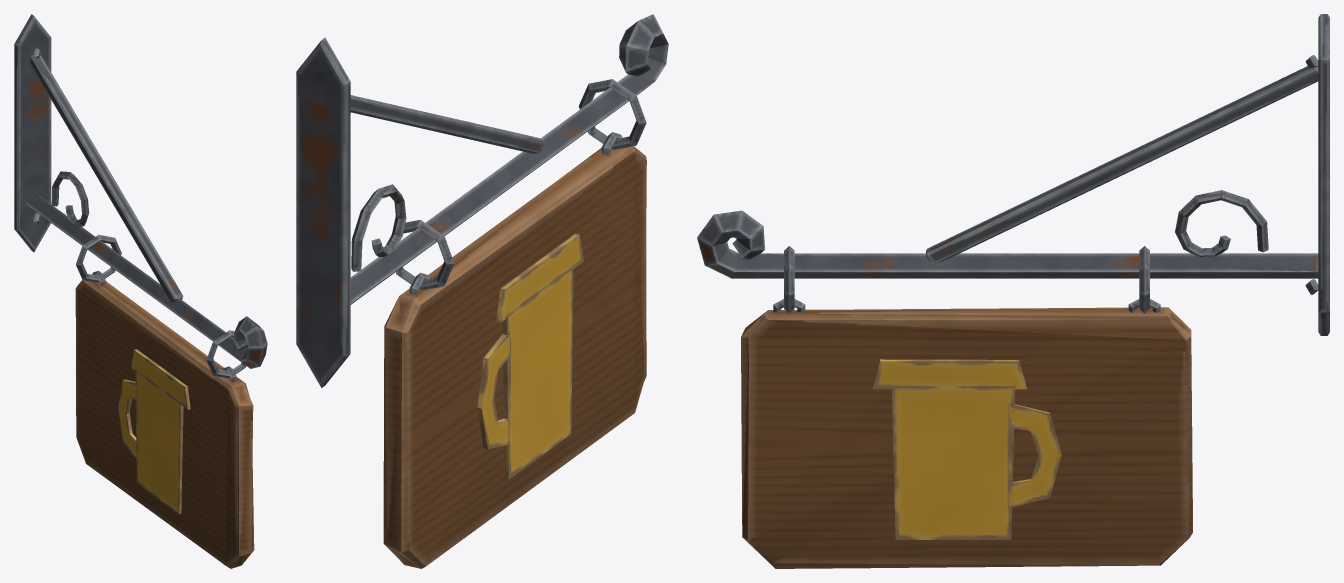
The model's file is tavern_sign.glb.
The picture shows the model from 3 angles, left to right: view 1: azimuth 30°, elevation 25°; view 2: azimuth 150°, elevation 25°; view 3: azimuth 270°, elevation 25°; orthographic projection. The views are drawn at different scales.
Parts seen in each view (by area): view 1: sign_board, tavern_sign_static; view 2: sign_board, tavern_sign_static; view 3: sign_board, tavern_sign_static.
Boxes of the visible parts, x1,y1,x2,y2 form: sign_board: (75,234,254,568); tavern_sign_static: (14,14,267,368); sign_board: (383,79,646,568); tavern_sign_static: (296,14,668,387); sign_board: (741,246,1192,568); tavern_sign_static: (697,14,1329,335).
Size of what is drawn, in the model's own units: 0.094 by 0.7862 by 0.8197.
Materials: 3 (3 with a texture image).
